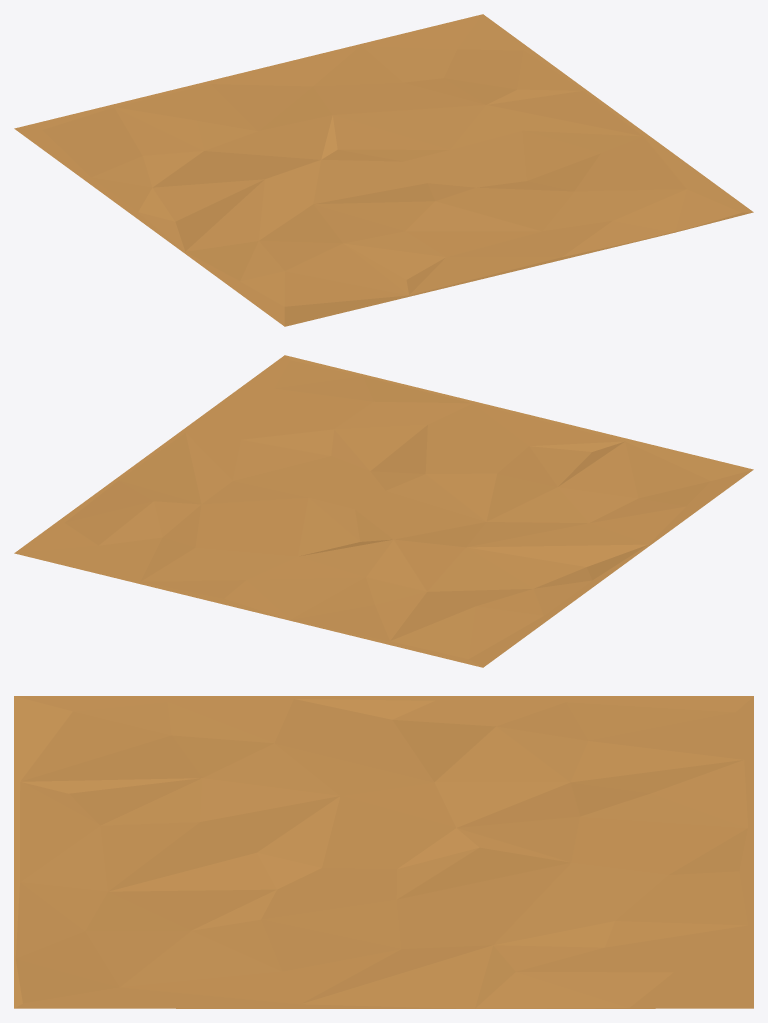
File: ground1.dae
3 renders of one model, top to bottom at view 1: azimuth 30°, elevation 25°; view 2: azimuth 150°, elevation 25°; view 3: azimuth 270°, elevation 25°, orthographic. The views are drawn at different scales.
Visible parts, largest first — view 1: ground001; view 2: ground001; view 3: ground001.
Part boxes in pixels (x1=…): ground001: x1=14, y1=14, x2=753, y2=326; ground001: x1=14, y1=355, x2=753, y2=667; ground001: x1=14, y1=696, x2=753, y2=1008.
Bounding box in the file's own units: 15.94 × 15.94 × 0.1783.
